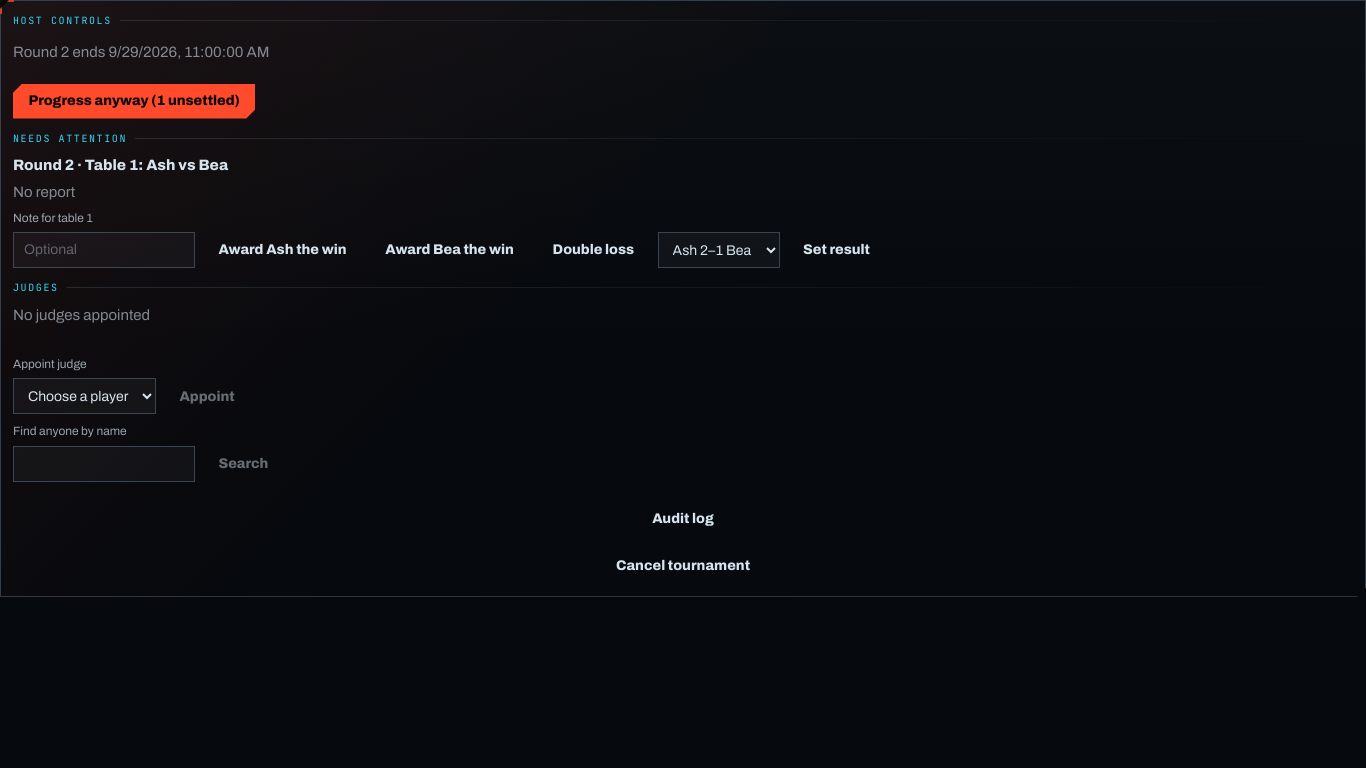
Test case: A1 games left open by a forced progress can still be settled › the preview says the games stay open, never "forfeited"
Click the button "Progress anyway (1 unsettled)".
click(134, 101)  # box x1=13 y1=84 x2=255 y2=119
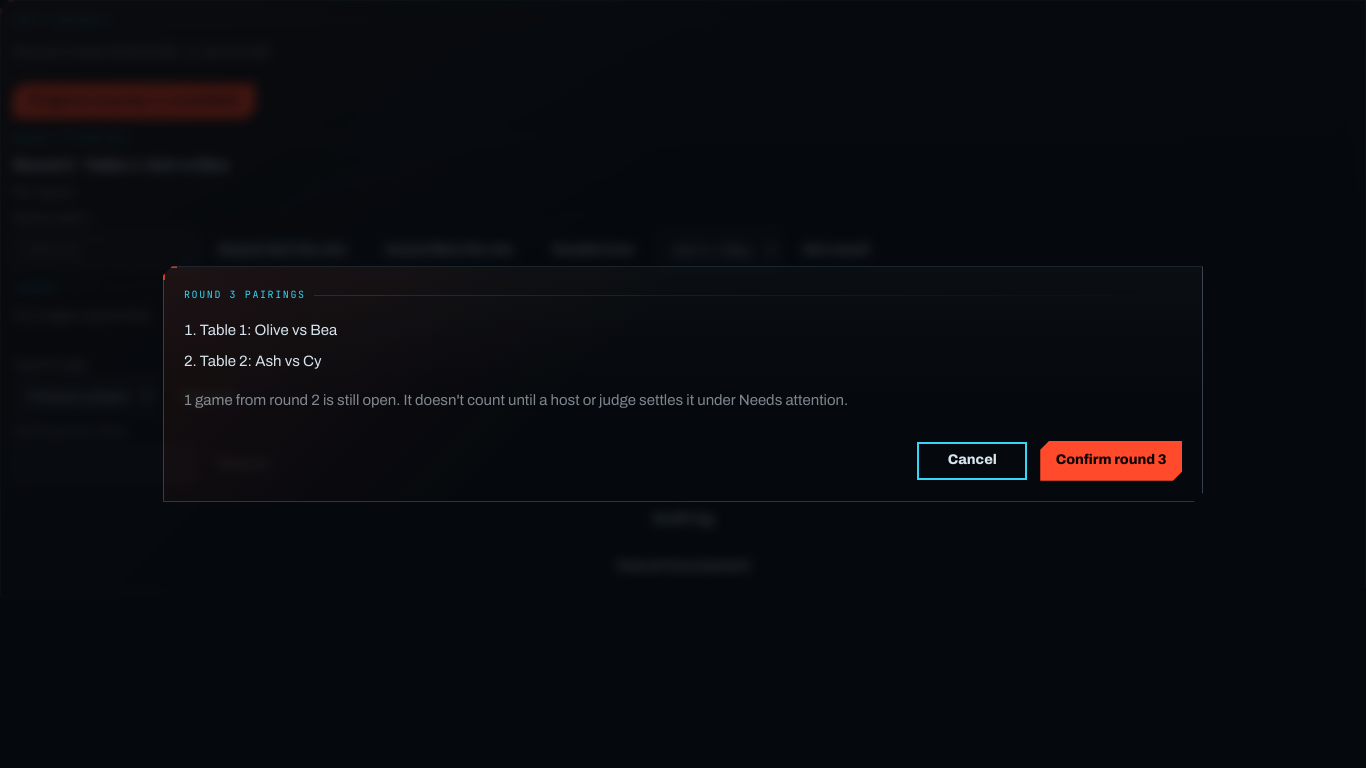
Result: the dialog shows "1 game from round 2 is still open. It doesn't count until a host or judge settles it under Needs attention." at x1=163 y1=266 x2=1203 y2=502
